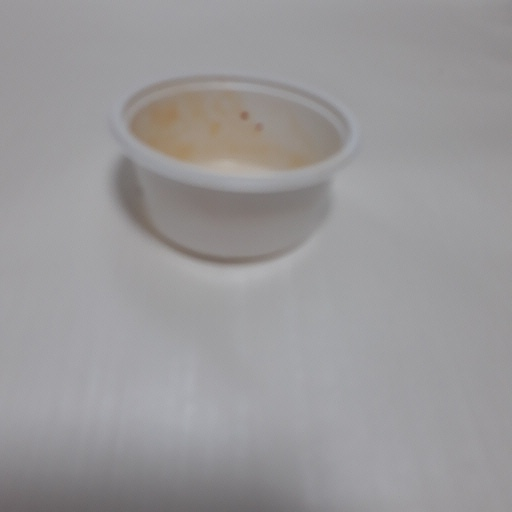Plastic_5: (103, 69, 362, 264)
